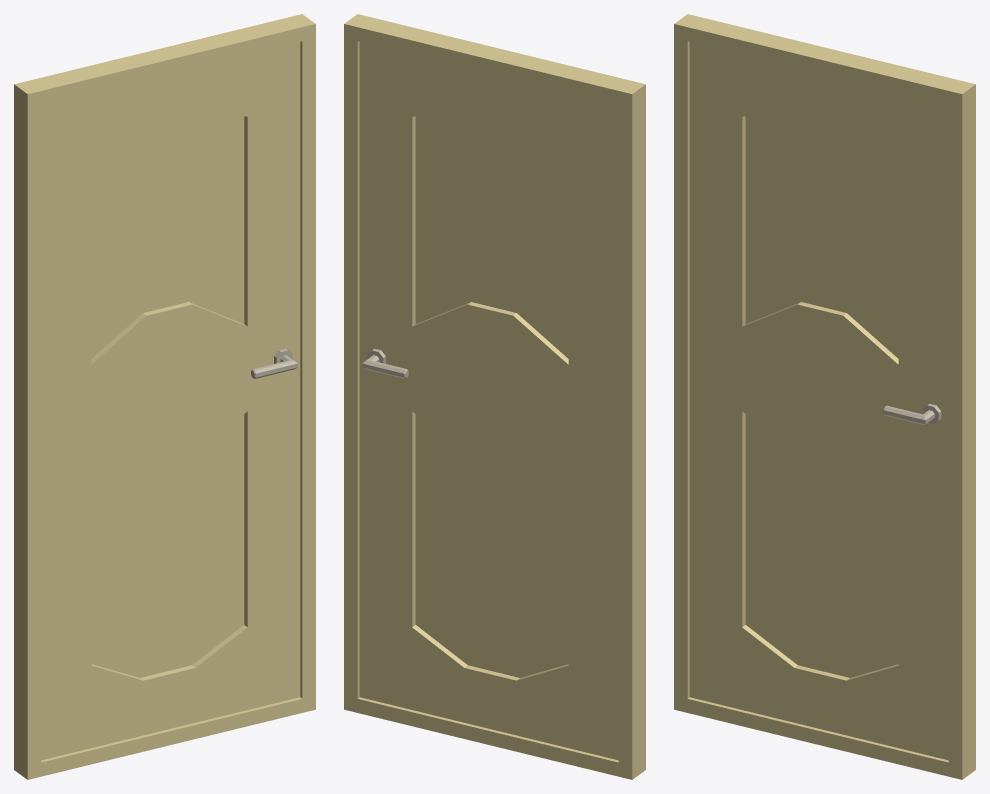
File: Mesh_Door_D09.fbx
3 views of the same model, side by side, from view 1: azimuth 30°, elevation 25°; view 2: azimuth 150°, elevation 25°; view 3: azimuth 330°, elevation 25° (orthographic).
Visible parts, largest first — view 1: Mesh_Door_D09; view 2: Mesh_Door_D09; view 3: Mesh_Door_D09.
Part boxes in pixels (<box>): Mesh_Door_D09: <box>14,14,315,779</box>; Mesh_Door_D09: <box>344,14,645,779</box>; Mesh_Door_D09: <box>674,14,975,779</box>.
Bounding box in the file's own units: 0.9 × 2.05 × 0.1742.
